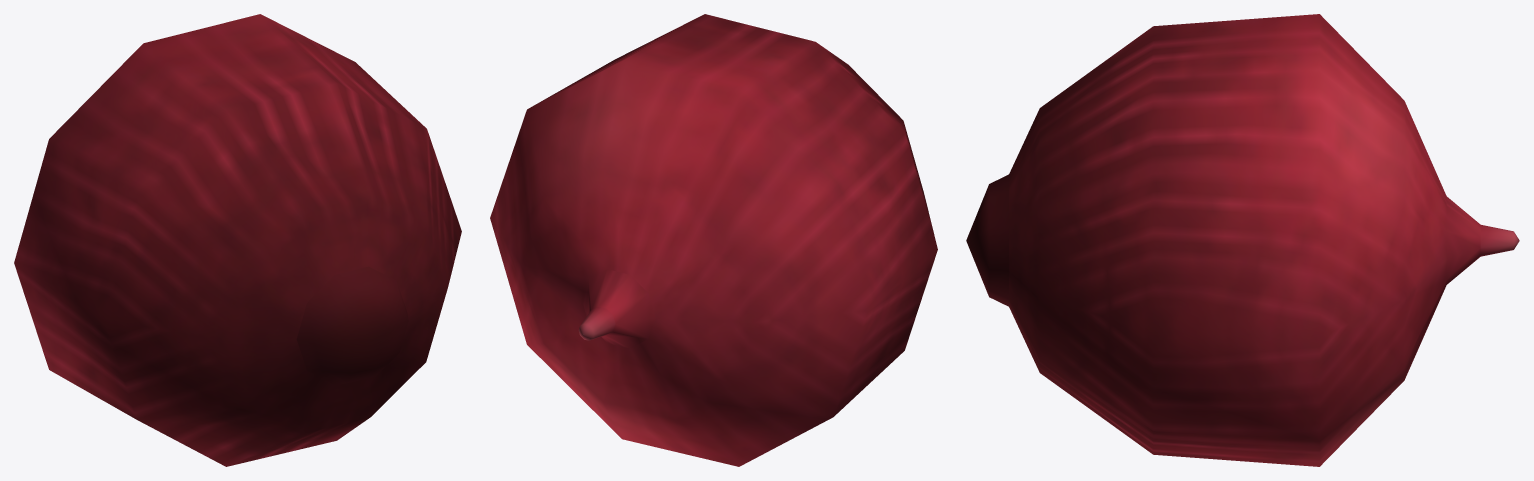
Rendered from Onion.fbx.
3 renders of one model, left to right at view 1: azimuth 30°, elevation 25°; view 2: azimuth 150°, elevation 25°; view 3: azimuth 270°, elevation 25°, orthographic. The views are drawn at different scales.
Parts seen in each view (by area): view 1: Onion; view 2: Onion; view 3: Onion.
Part boxes in pixels (x1,y1,x2,y2): Onion: (14, 14, 461, 466); Onion: (490, 14, 937, 466); Onion: (966, 14, 1519, 466).
Bounding box in the file's own units: 8.89 × 10.79 × 8.48.
